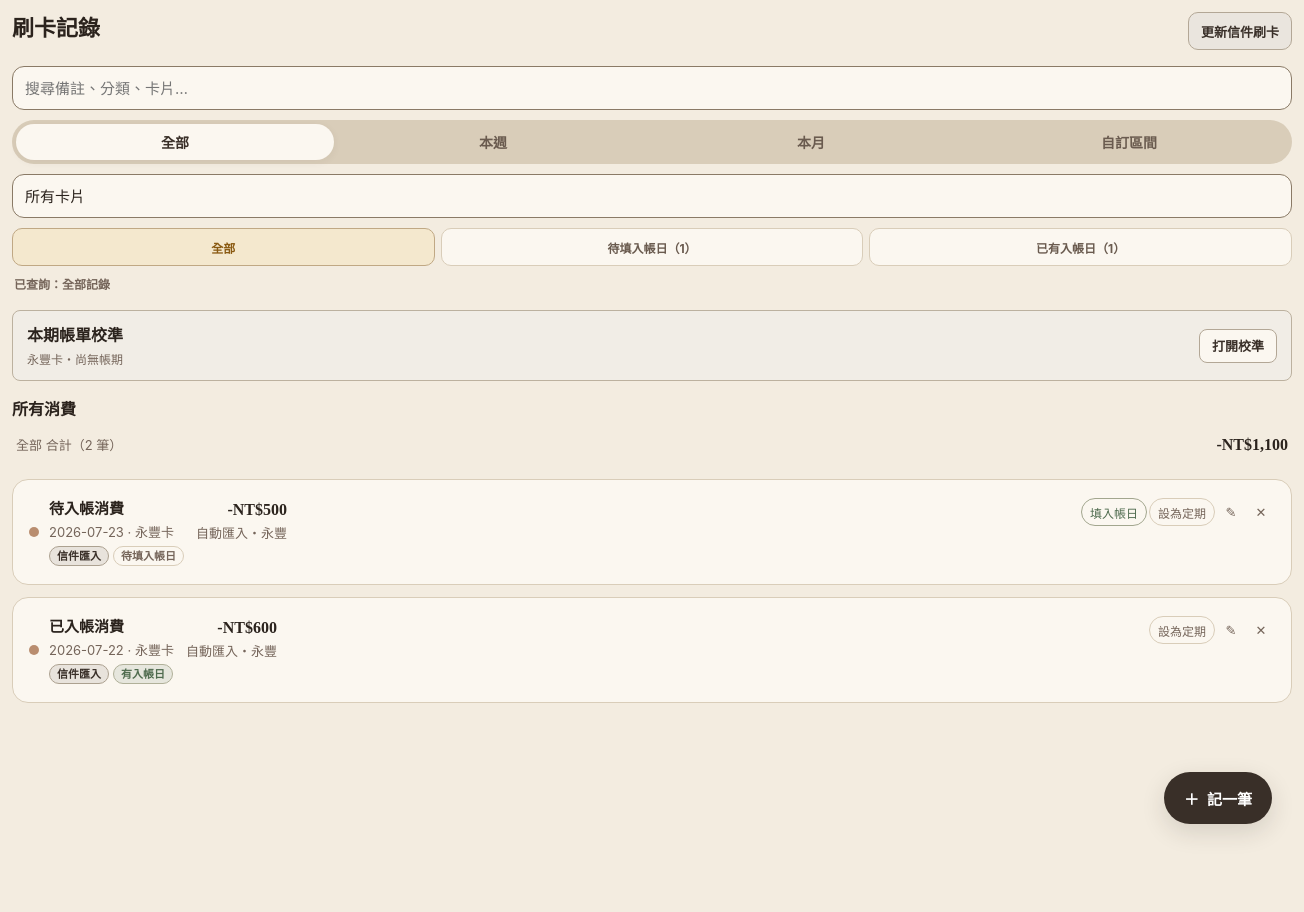
Test: Transactions import entry › filters the list to imported transactions with posted dates
Click the button "已有入帳日（1）": (1081, 247) [869,228,1292,266]
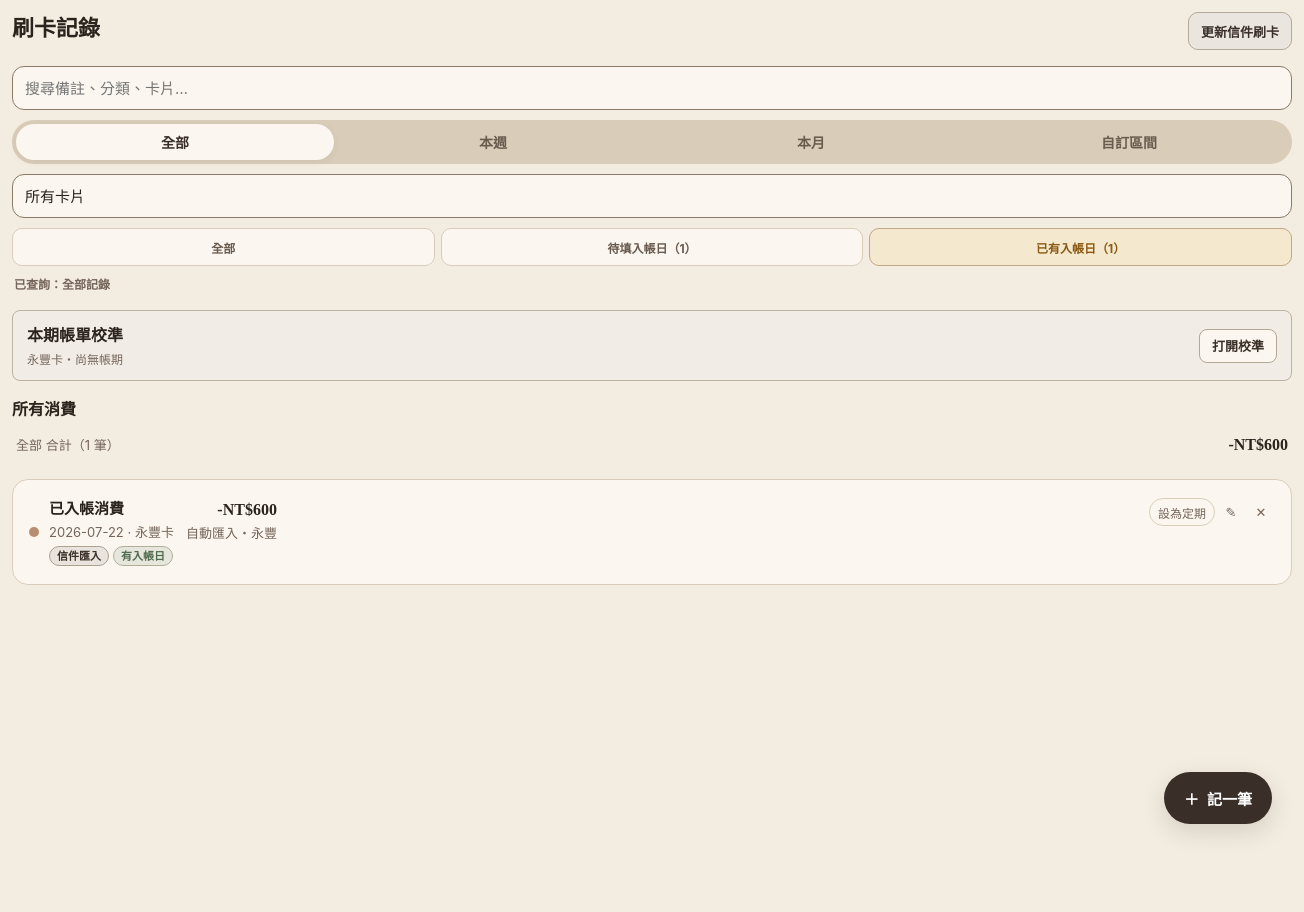
Expected: the text "已入帳消費" is shown, [49,499,124,518]
Now the button "待入帳消費" is gone
